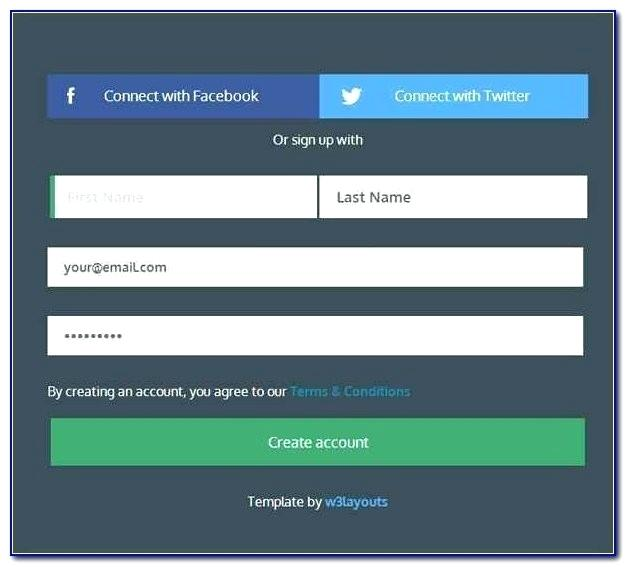button: (49, 416, 587, 468), (43, 72, 322, 122), (316, 72, 590, 121)
field: (45, 315, 585, 358), (45, 246, 585, 288), (47, 173, 320, 221), (316, 174, 589, 220)
